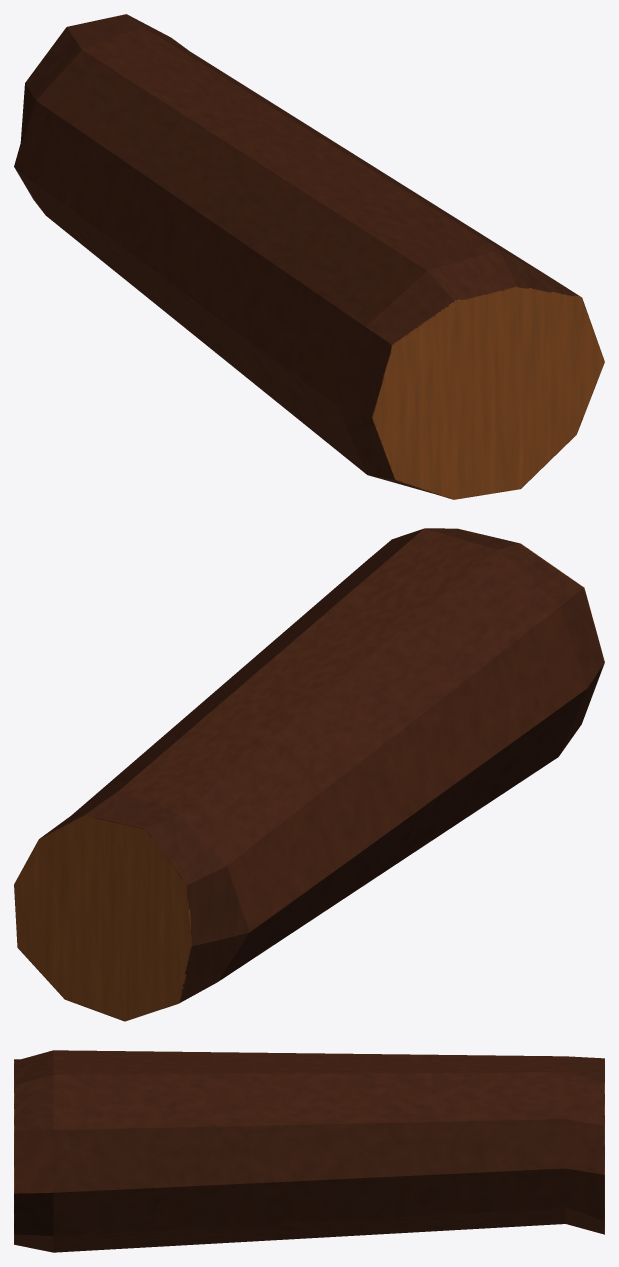
File: TX_N07_Log.fbx
3 renders of one model, top to bottom at view 1: azimuth 30°, elevation 25°; view 2: azimuth 150°, elevation 25°; view 3: azimuth 270°, elevation 25°, orthographic. The views are drawn at different scales.
Visible parts, largest first — view 1: TX_N07_Log; view 2: TX_N07_Log; view 3: TX_N07_Log.
Part boxes in pixels (bbox=[...]): TX_N07_Log: bbox=[14, 14, 604, 499]; TX_N07_Log: bbox=[14, 528, 604, 1021]; TX_N07_Log: bbox=[14, 1050, 604, 1252].
Bounding box in the file's own units: 0.5675 × 0.4994 × 1.5.
2 materials, 2 textured.
